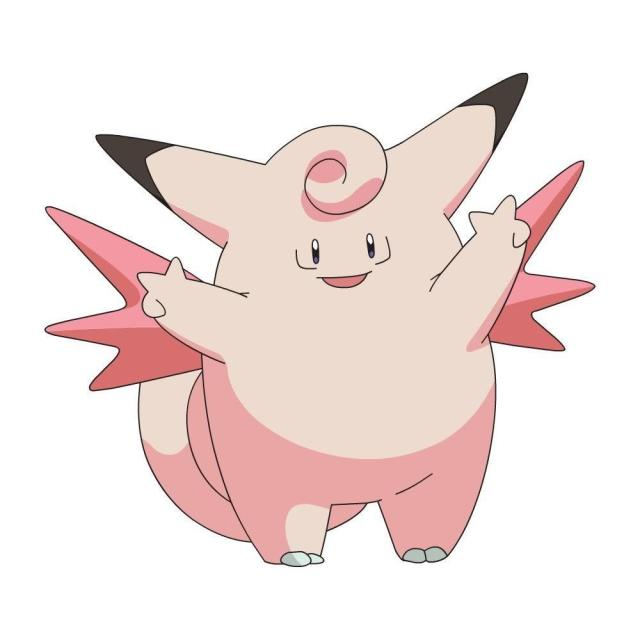Clefable: (40, 66, 596, 572)
